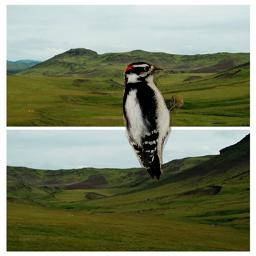Woodpecker: (123, 62, 184, 180)
